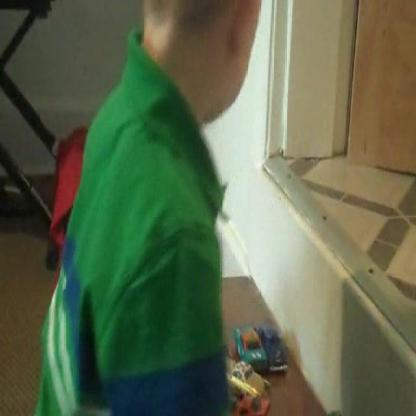other: (44, 126, 101, 256), (224, 346, 268, 414)
